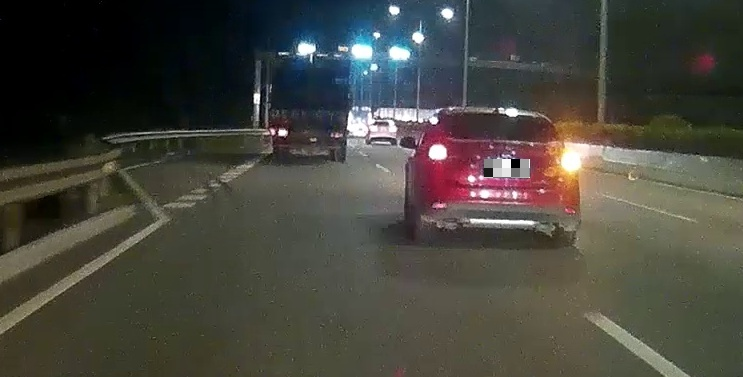L_light: (426, 142, 451, 162), (270, 128, 288, 137)
R_light: (558, 150, 578, 169), (330, 130, 346, 138)
T_light: (495, 116, 513, 121), (303, 54, 316, 58)
night-no: (267, 50, 351, 162)
night-right: (418, 106, 581, 246)
plate_1: (484, 159, 530, 178)
